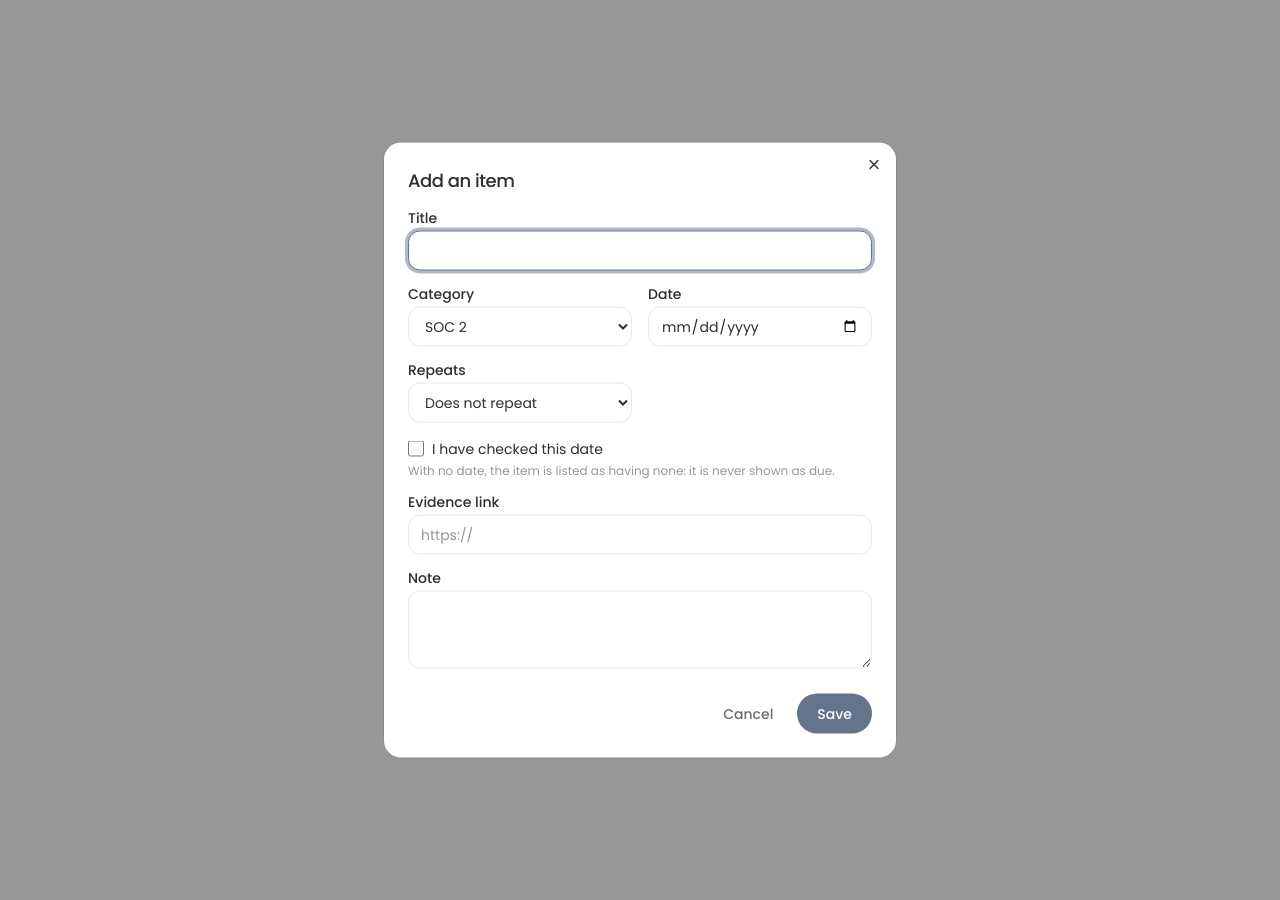
it: ObligationEditor: adding › no title is refused before anything is sent
Step 1. Click the button "Save" → (835, 714), box [797,694,872,734]
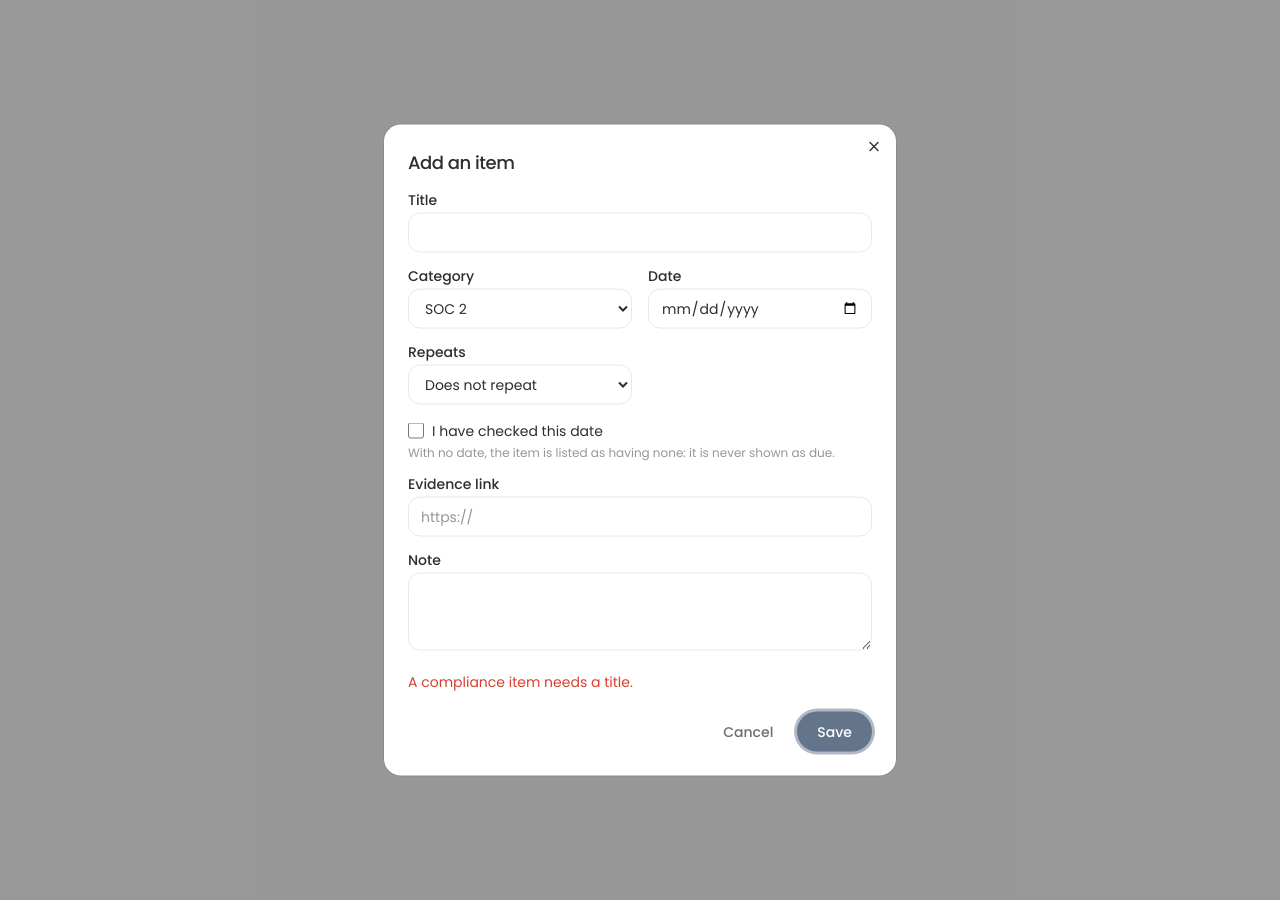
Now the message reads "A compliance item needs a title.", box [408,672,633,692]
